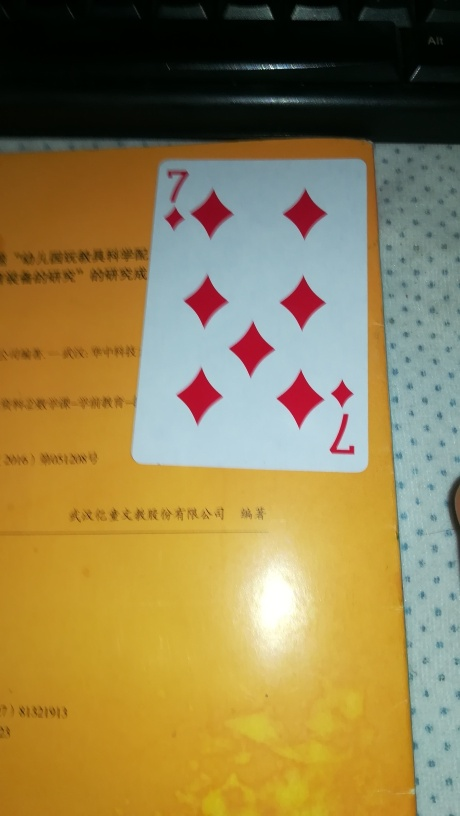fk 7: (128, 157, 369, 471)
